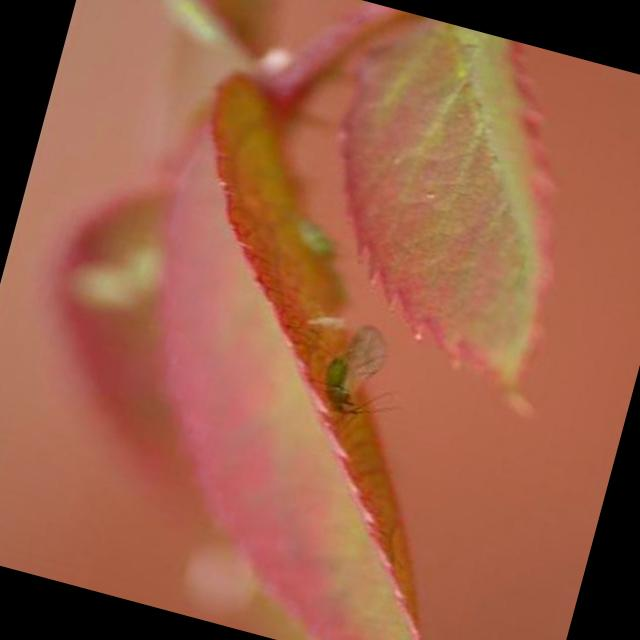aphid: (286, 310, 424, 442)
